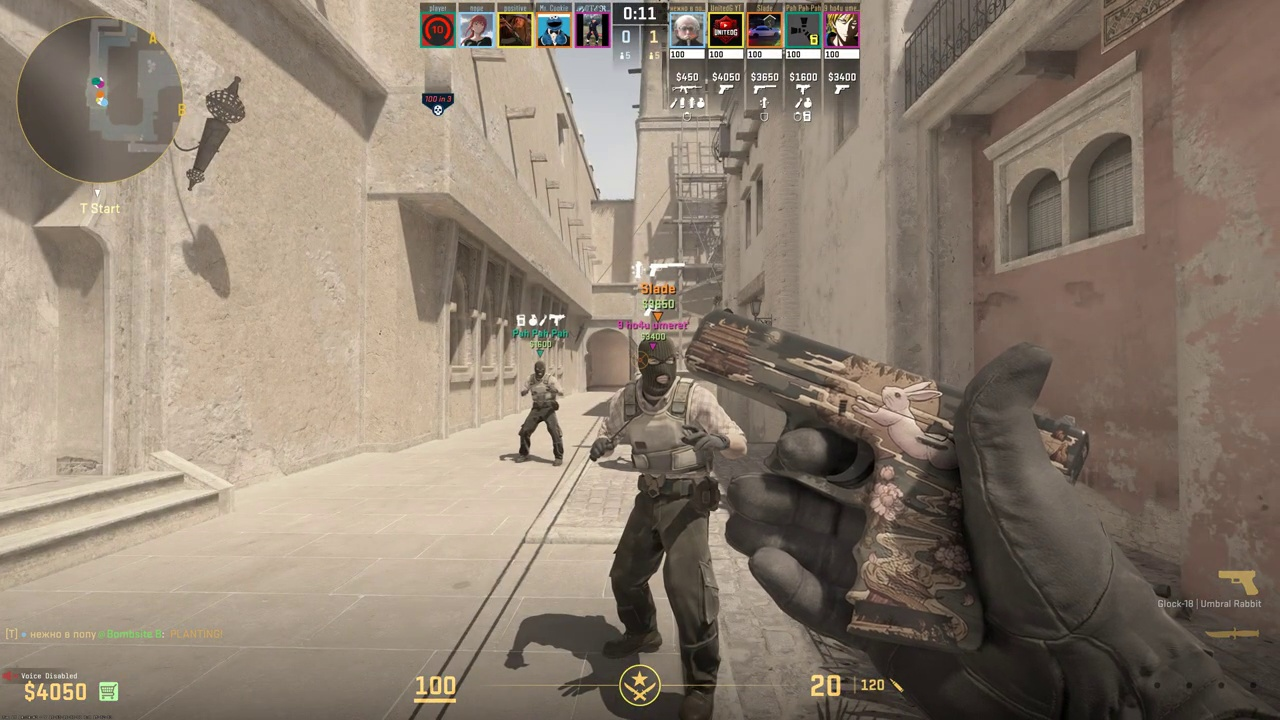Terrorist: (600, 333, 723, 719), (517, 361, 561, 464)
